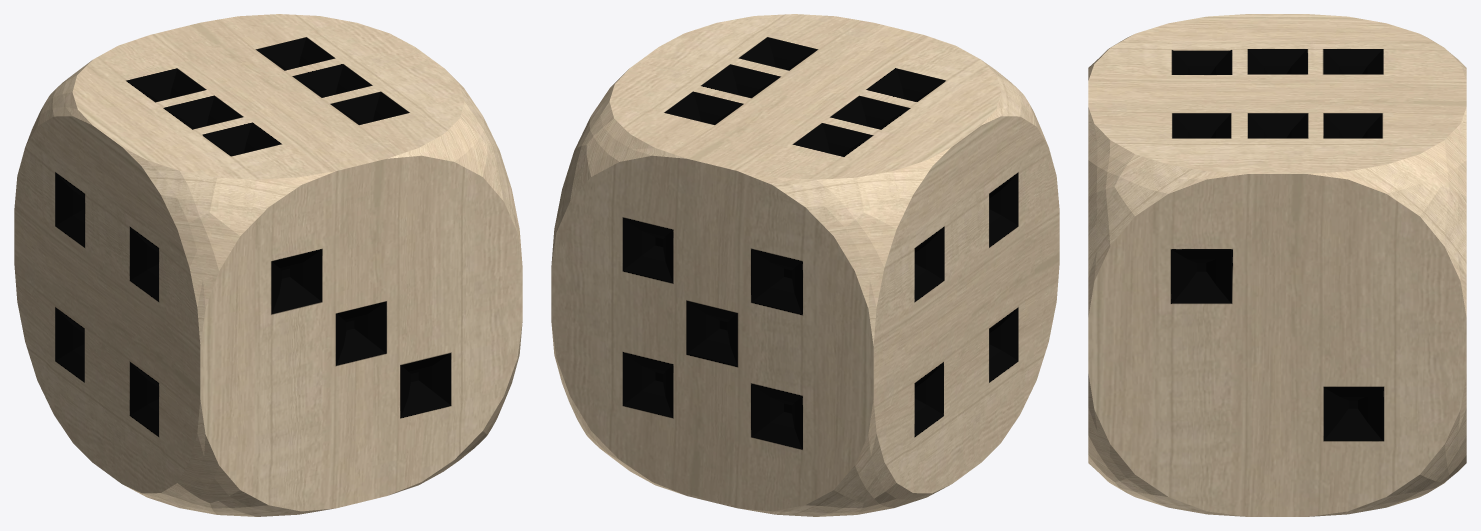
The model's file is 주사위.fbx.
3 views of the same model, side by side, from view 1: azimuth 30°, elevation 25°; view 2: azimuth 150°, elevation 25°; view 3: azimuth 270°, elevation 25° (orthographic).
Parts seen in each view (by area): view 1: 주사위; view 2: 주사위; view 3: 주사위.
Part boxes in pixels (box(x1,y1,x2,y2)): 주사위: box(14, 14, 522, 516); 주사위: box(551, 14, 1059, 516); 주사위: box(1088, 14, 1466, 516).
Size of the model in its own units: 100 by 100 by 100.
